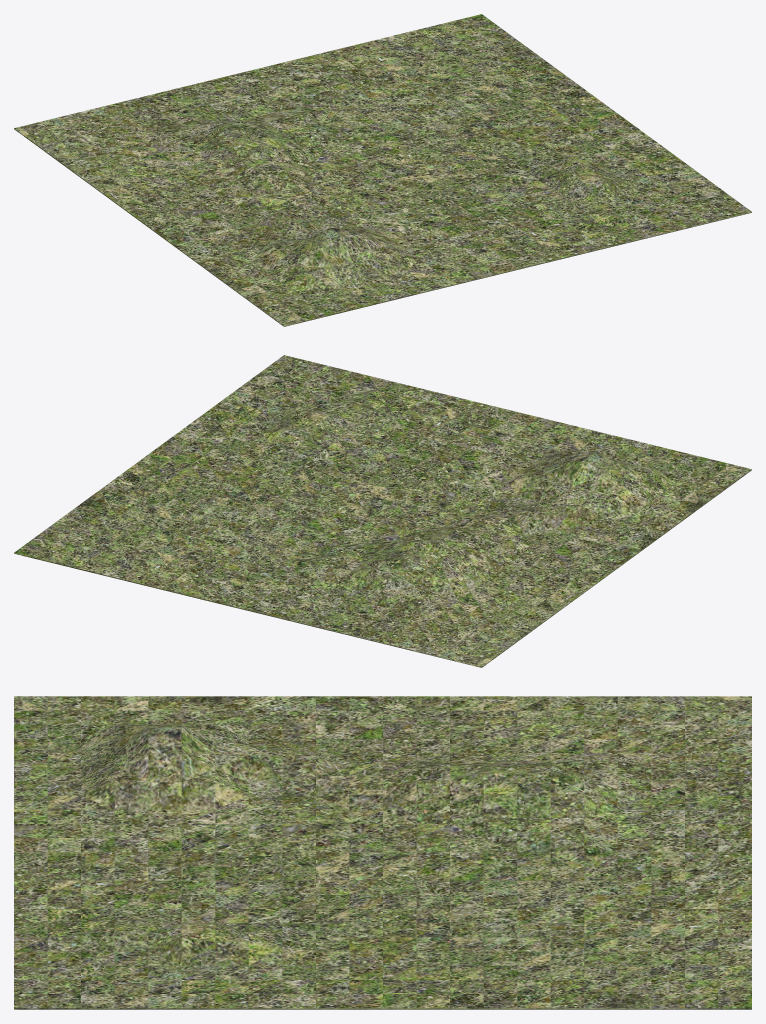
File: grass.glb
3 renders of one model, top to bottom at view 1: azimuth 30°, elevation 25°; view 2: azimuth 150°, elevation 25°; view 3: azimuth 270°, elevation 25°, orthographic. The views are drawn at different scales.
Parts seen in each view (by area): view 1: Cube; view 2: Cube; view 3: Cube.
Part boxes in pixels (x1=…): Cube: x1=14, y1=14, x2=751, y2=326; Cube: x1=14, y1=355, x2=751, y2=667; Cube: x1=14, y1=696, x2=751, y2=1009.
Size of the model in its own units: 1000 by 58.01 by 1000.
1 material, 1 textured.
